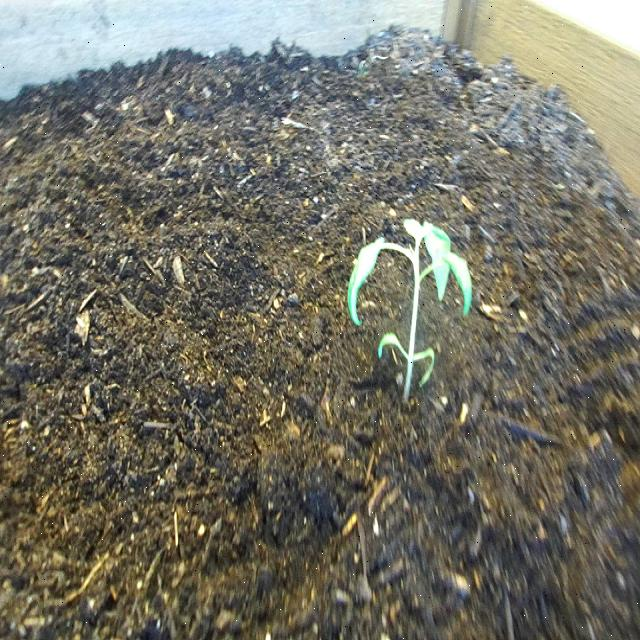Healthy: (337, 189, 482, 415)
